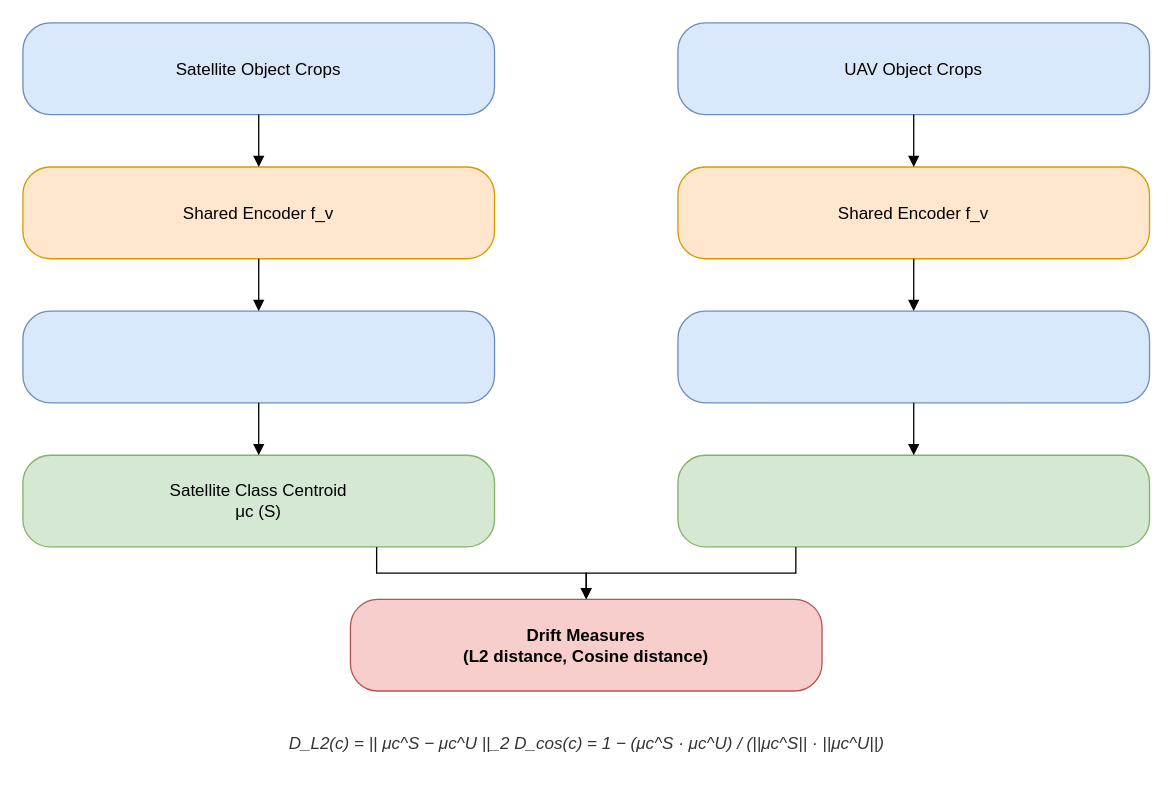
The diagram is 1172 pixels wide and 793 high, and some of its shapes have lost their labels. The centre of each missing label's shape, as x and y in pixels:
"Satellite Embeddings E1^S, E2^S, ..., En^S" goes at pixel 258 356.
"UAV Class Centroid μc (U)" goes at pixel 913 500.
"UAV Embeddings E1^U, E2^U, ..., En^U" goes at pixel 913 356.
